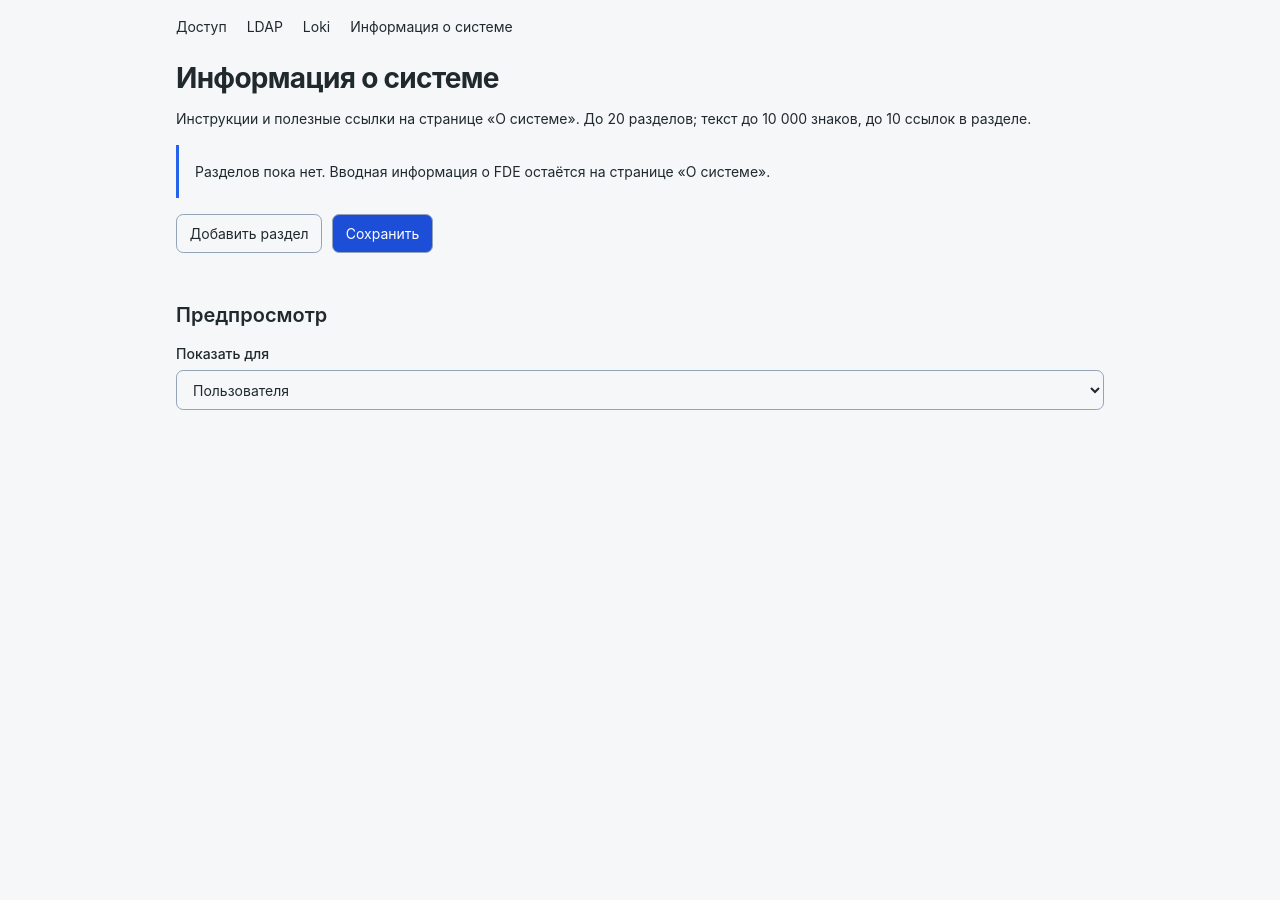
Test: keeps unsaved text on a conflict and offers explicit reload
Click the button "Добавить раздел": (249, 234) [176,214,322,253]
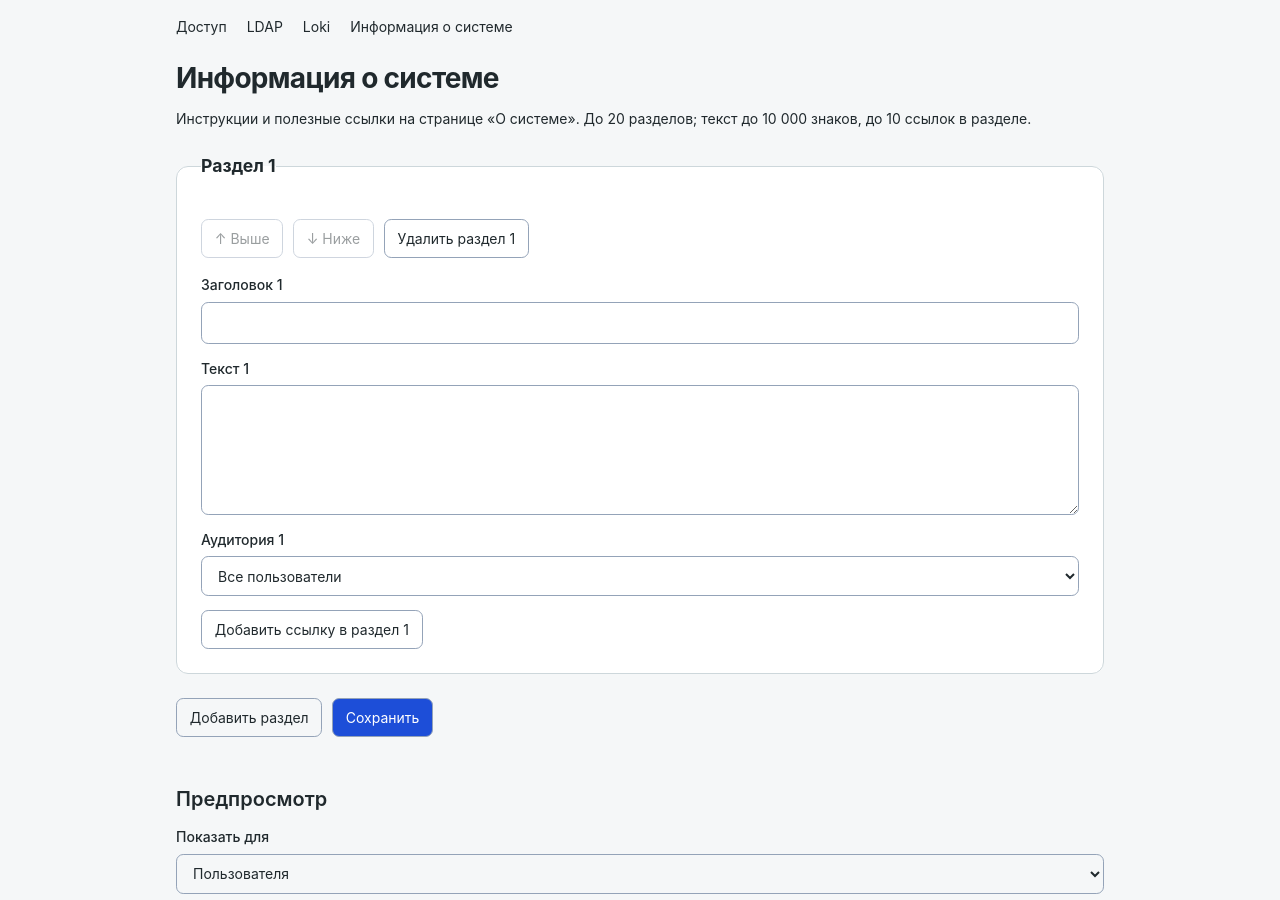
In the field labelled "Заголовок 1": (640, 323) [201,302,1079,344], type "Мой текст"
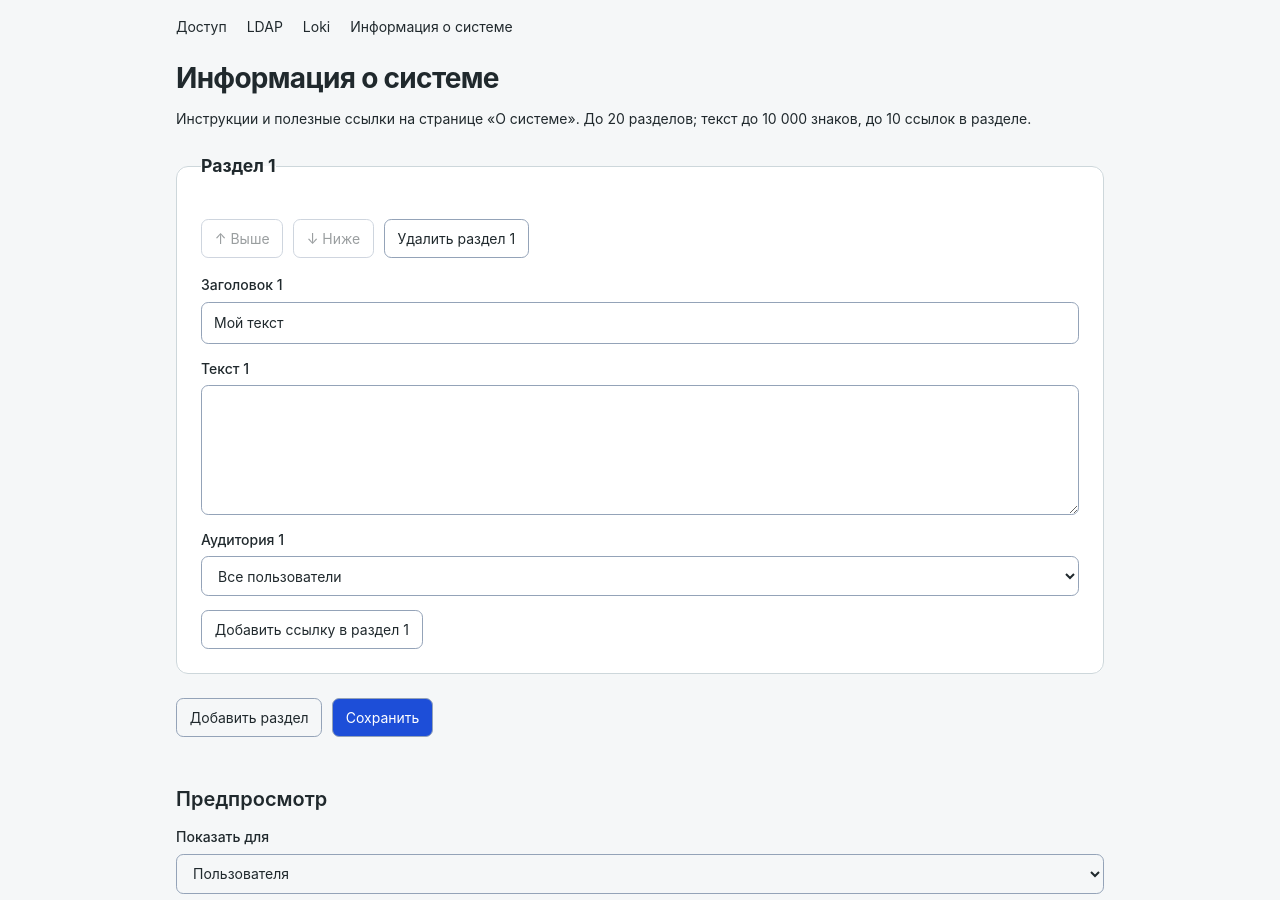
Click the button "Сохранить": (383, 717) [332,698,433,737]
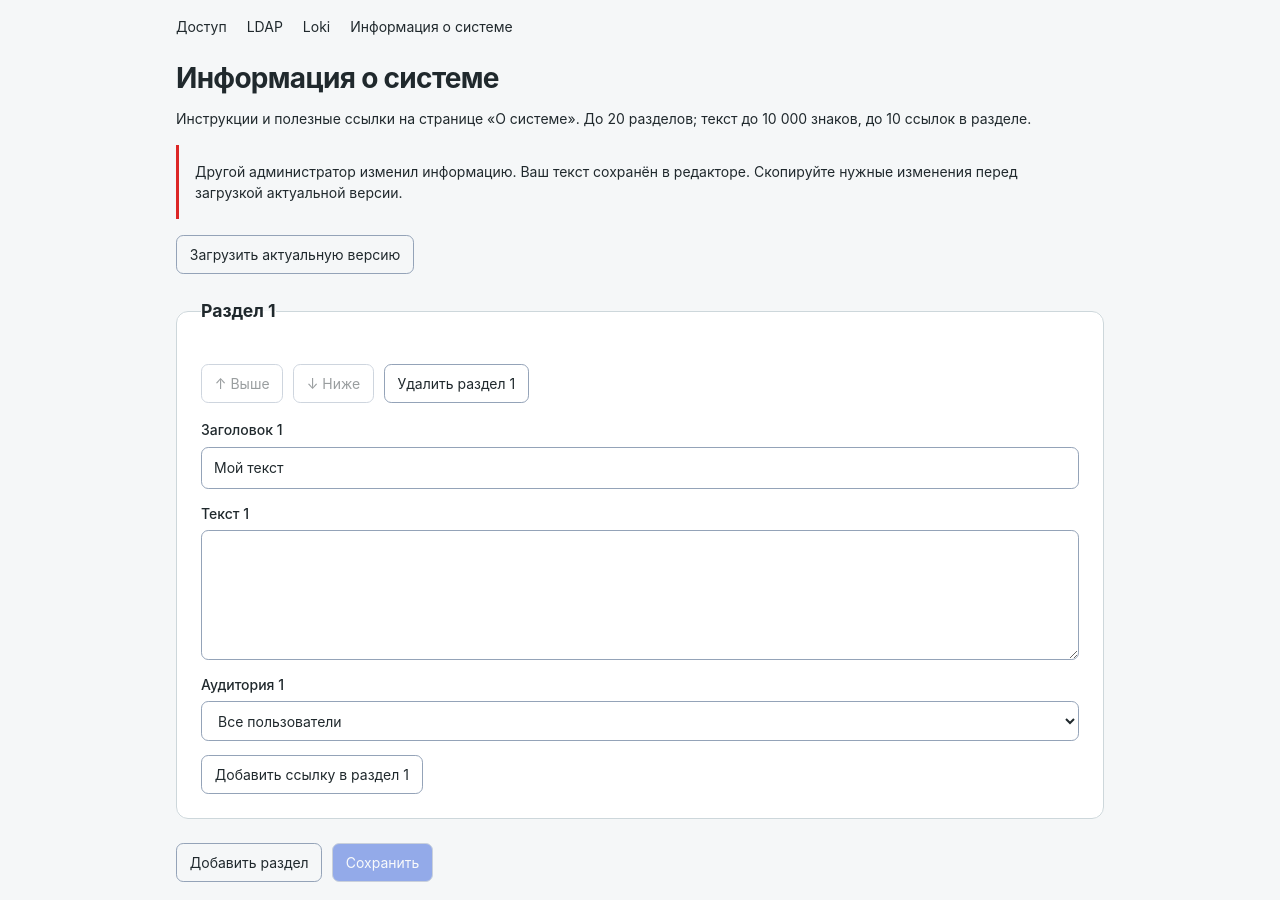
Check: the message is shown, box [176,145,1104,219]
Check: the button "Загрузить актуальную версию" is shown, box [176,235,414,274]
